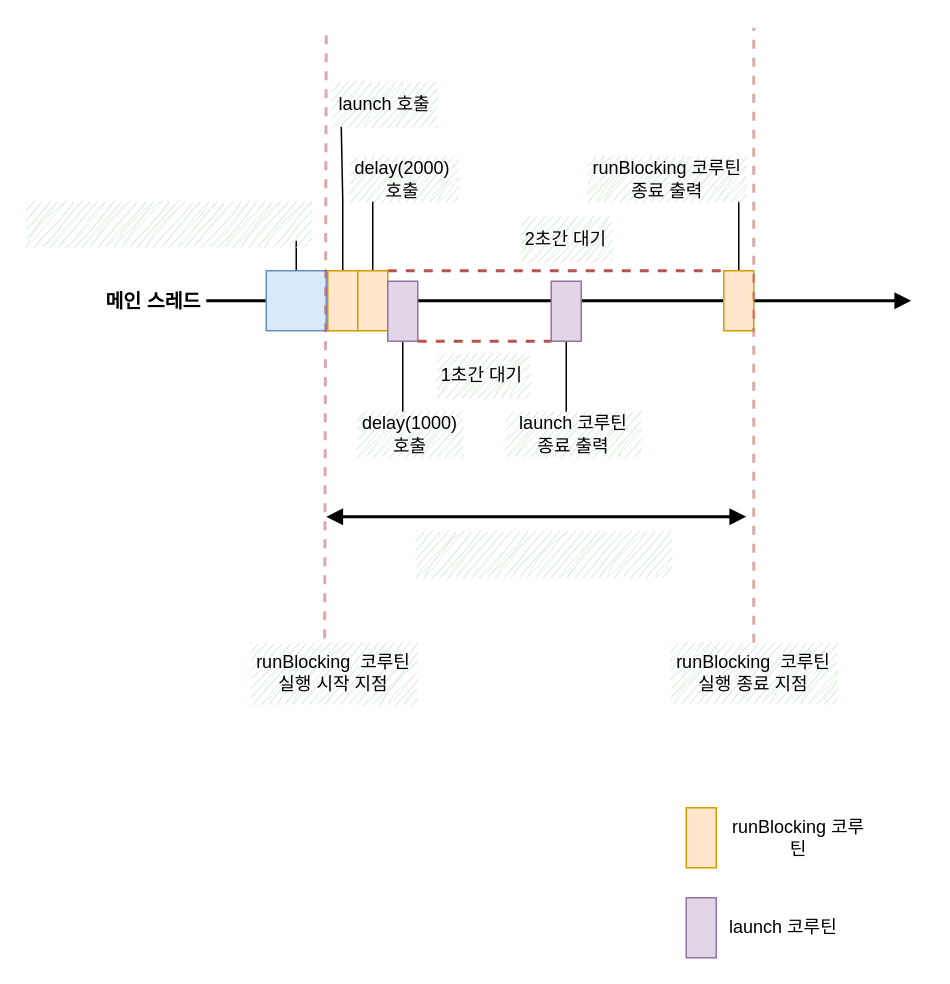
The diagram is 950 pixels wide and 984 high, and some of its shapes have lost their labels. Each missing label, with the centre of its shape:
"runBlocking 코루틴을 호출한 메인 스레드가 차단되는 구간" goes at (x=543, y=553).
"메인 스레드에서 runBlocking() 호출" goes at (x=168, y=223).
